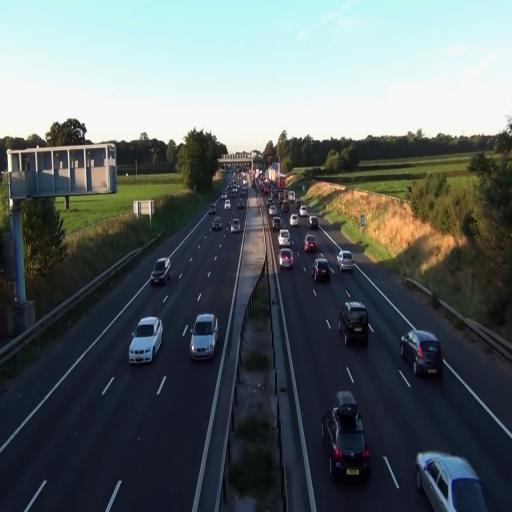vehicle: (415, 451, 487, 512), (323, 408, 371, 482), (400, 328, 442, 377), (128, 316, 164, 367), (338, 302, 370, 347), (189, 314, 218, 362), (150, 256, 171, 286), (312, 256, 331, 285), (337, 250, 354, 275), (279, 247, 295, 271), (304, 236, 318, 254), (229, 218, 241, 233), (212, 215, 222, 231)
